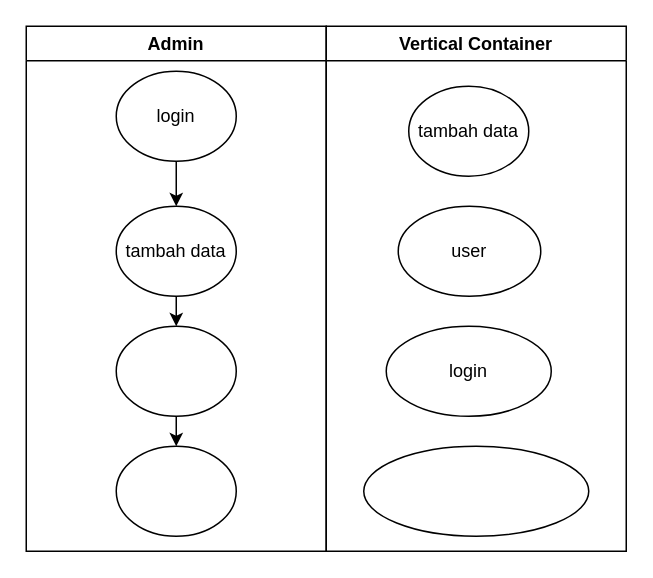
Some shapes in this 653 by 578 pixel diagram are drawn without their labels. The centre of each missing label's shape, as x and y in pixels:
"beli" goes at pixel 475 490.
"edit" goes at pixel 175 490.
"hapus Data" goes at pixel 175 370.
